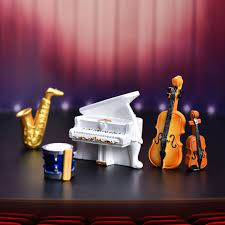Piano: (62, 86, 161, 182)
Saxophone: (9, 75, 69, 150)
Violin: (179, 101, 222, 187)
